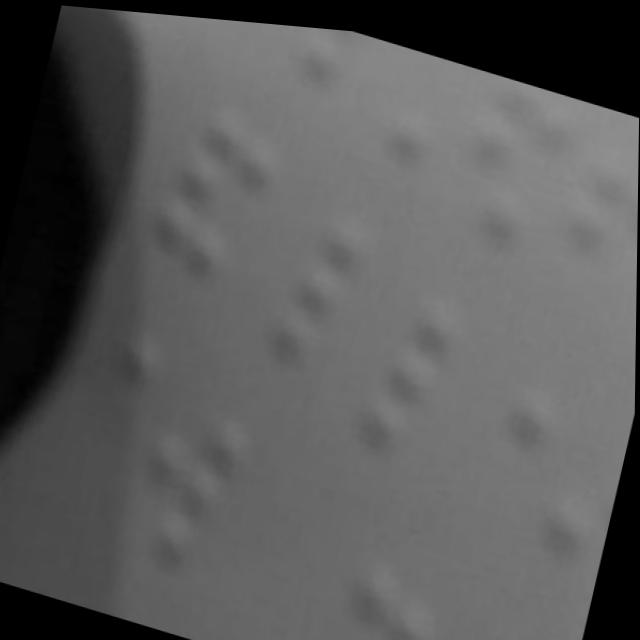braiile: (228, 185, 385, 386), (112, 376, 264, 582), (324, 265, 472, 466), (441, 57, 587, 253)
